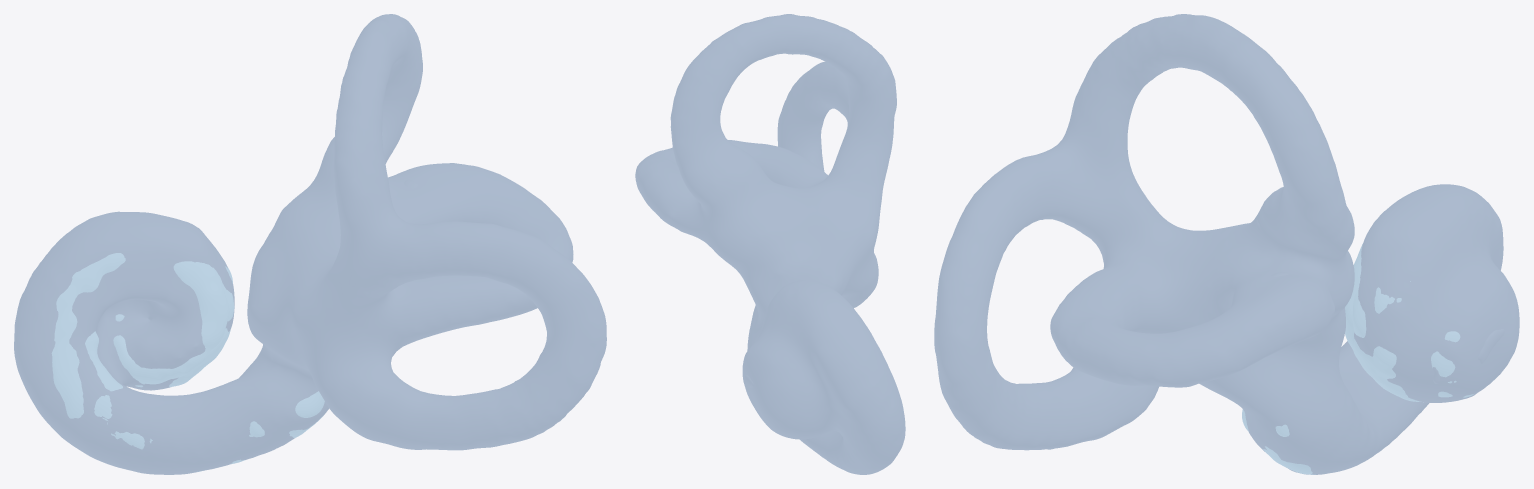
Rendered from iemap_right_labyrinth.glb.
3 renders of one model, left to right at view 1: azimuth 30°, elevation 25°; view 2: azimuth 150°, elevation 25°; view 3: azimuth 270°, elevation 25°, orthographic. The views are drawn at different scales.
Parts seen in each view (by area): view 1: segT2_th1.07_Otsu, seg_coch_inner_scala_tympani, seg_coch_outer_T2; view 2: segT2_th1.07_Otsu; view 3: segT2_th1.07_Otsu, seg_coch_outer_T2, seg_coch_inner_scala_tympani.
Boxes of the visible parts, x1=… form: segT2_th1.07_Otsu: x1=14, y1=14, x2=606, y2=474; seg_coch_inner_scala_tympani: x1=51, y1=253, x2=229, y2=449; seg_coch_outer_T2: x1=85, y1=266, x2=324, y2=471; segT2_th1.07_Otsu: x1=635, y1=14, x2=905, y2=474; segT2_th1.07_Otsu: x1=934, y1=14, x2=1519, y2=474; seg_coch_outer_T2: x1=1242, y1=281, x2=1473, y2=474; seg_coch_inner_scala_tympani: x1=1345, y1=244, x2=1362, y2=355.
Bounding box in the file's own units: 13.83 × 14.4 × 14.96.
